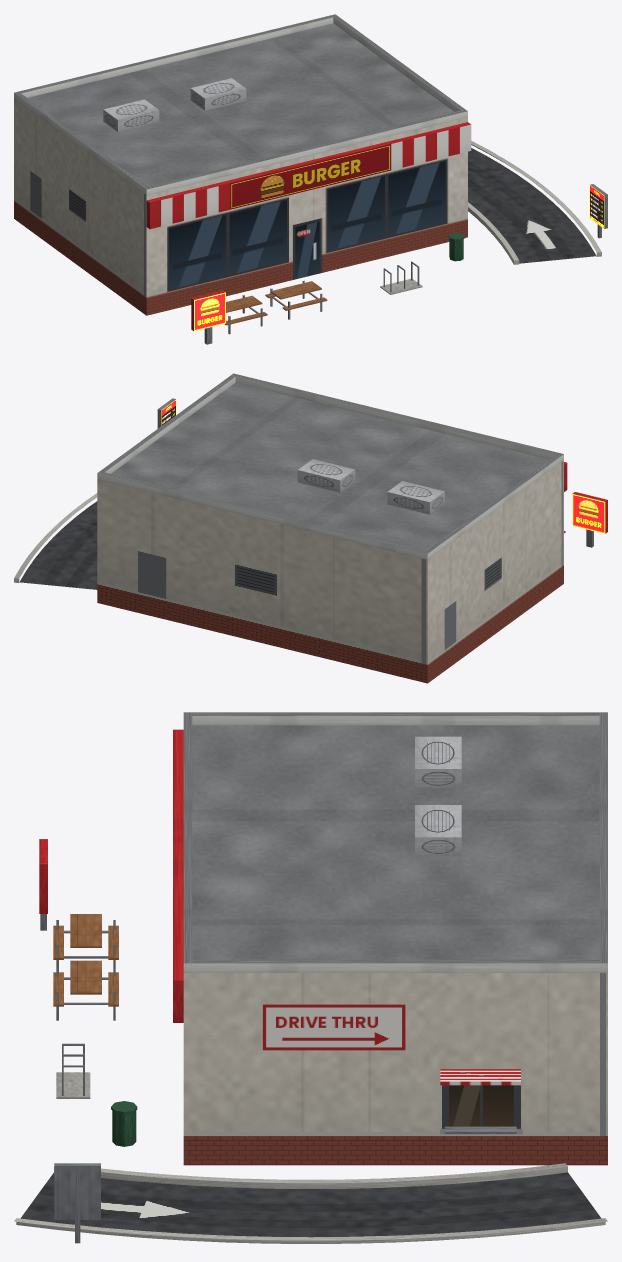
Rendered from prop_burger_joint.glb.
The picture shows the model from 3 angles, top to bottom: view 1: azimuth 30°, elevation 25°; view 2: azimuth 150°, elevation 25°; view 3: azimuth 270°, elevation 25°; orthographic projection. The views are drawn at different scales.
Visible parts, largest first — view 1: prop_burger_joint; view 2: prop_burger_joint; view 3: prop_burger_joint.
Boxes of the visible parts, x1,y1,x2,y2 form: prop_burger_joint: (14,14,607,344); prop_burger_joint: (14,373,607,683); prop_burger_joint: (14,712,607,1243).
Bounding box in the file's own units: 18.6 × 5.5 × 14.
Materials: 1 (1 with a texture image).
